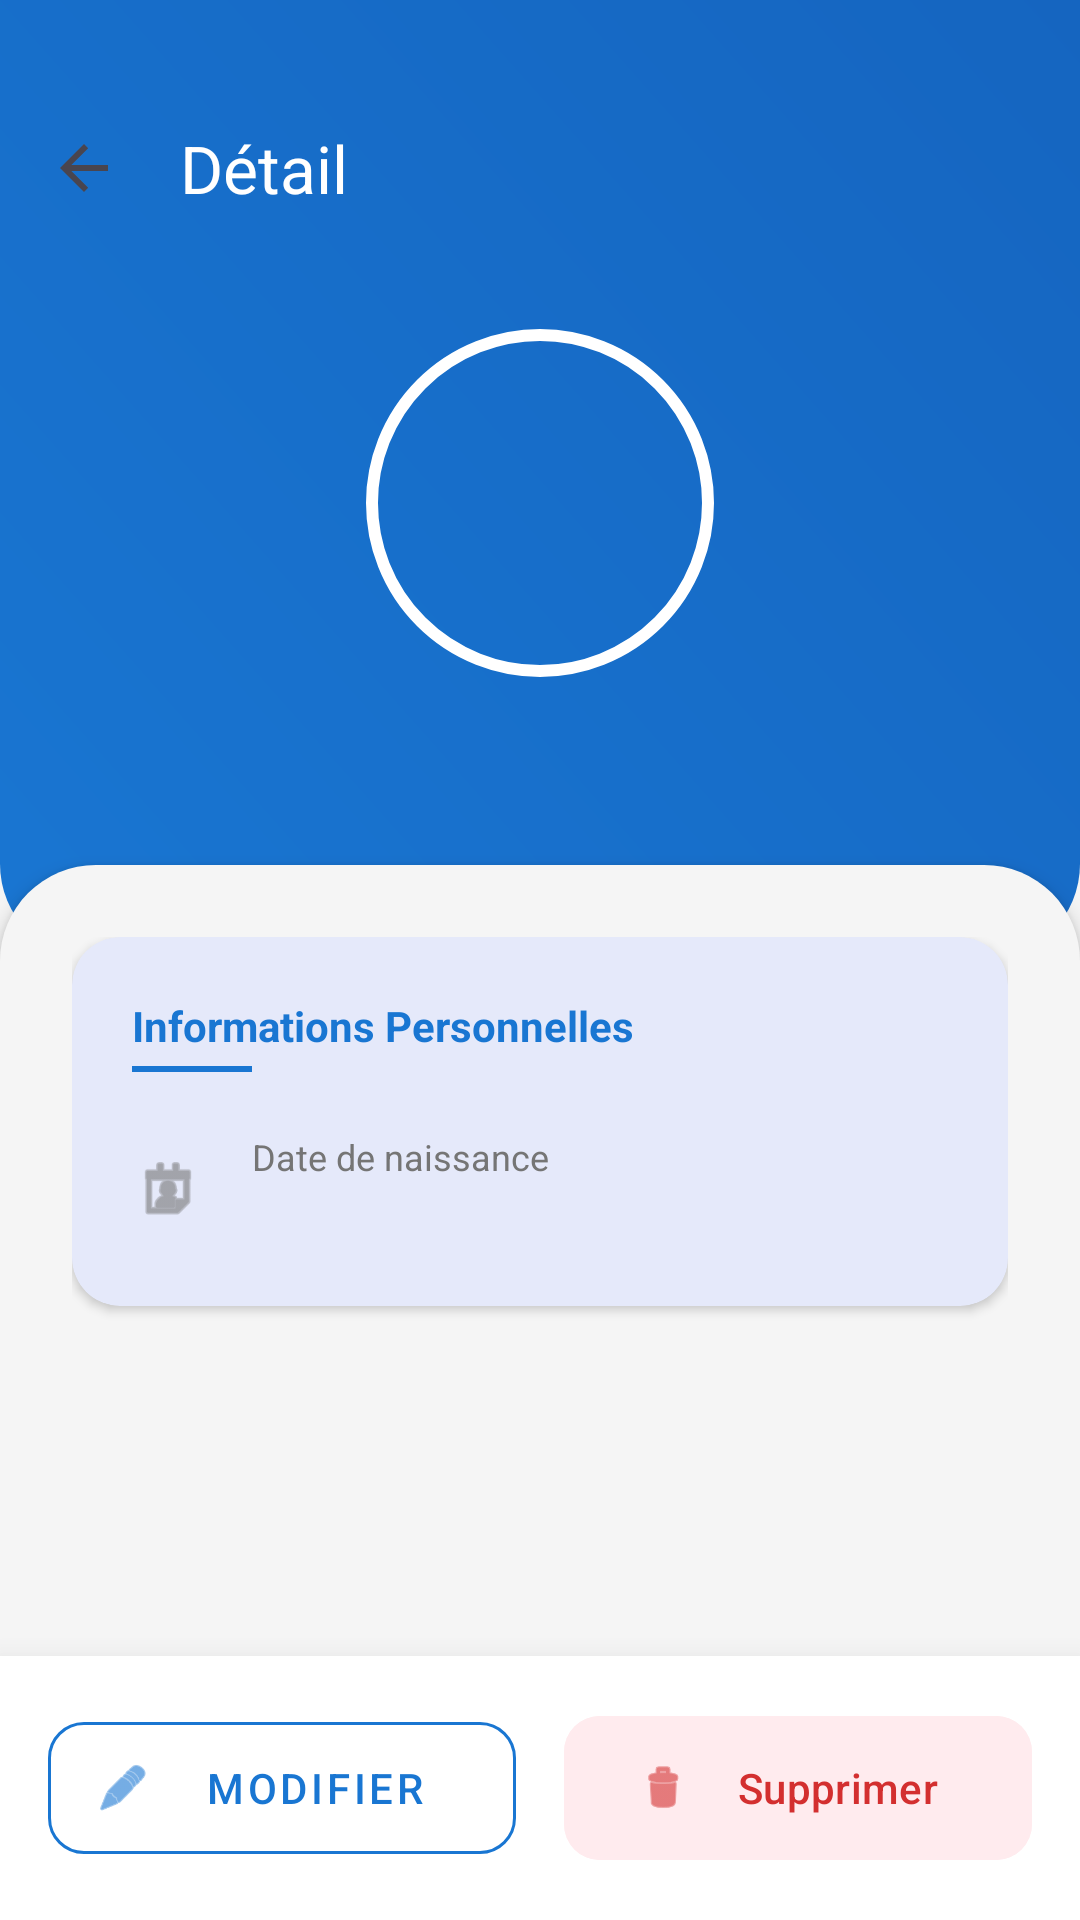

Named icons in this screenshot (1080*1920) and their centers, (x,y):
calendar: (168,1188)
